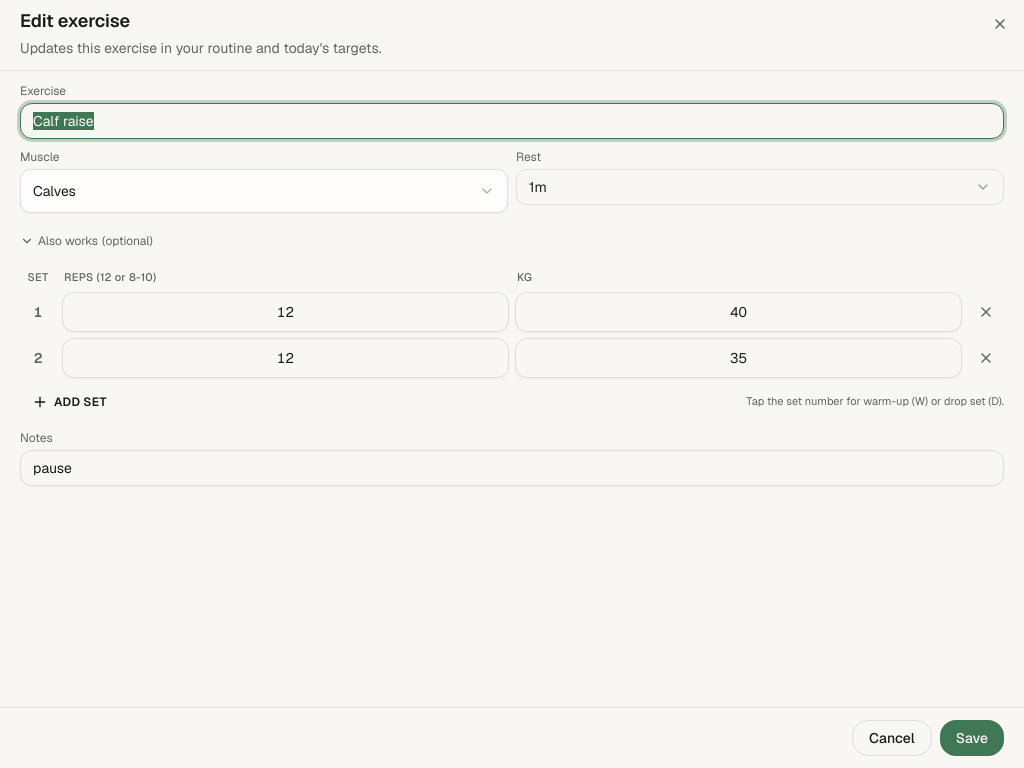
Test: EditExerciseDialog › blocks saving while a set has an unreadable kg
Replace the text in the field named "Set 1 weight in kg" with "abc" at (738, 312), box [515,292,962,332]
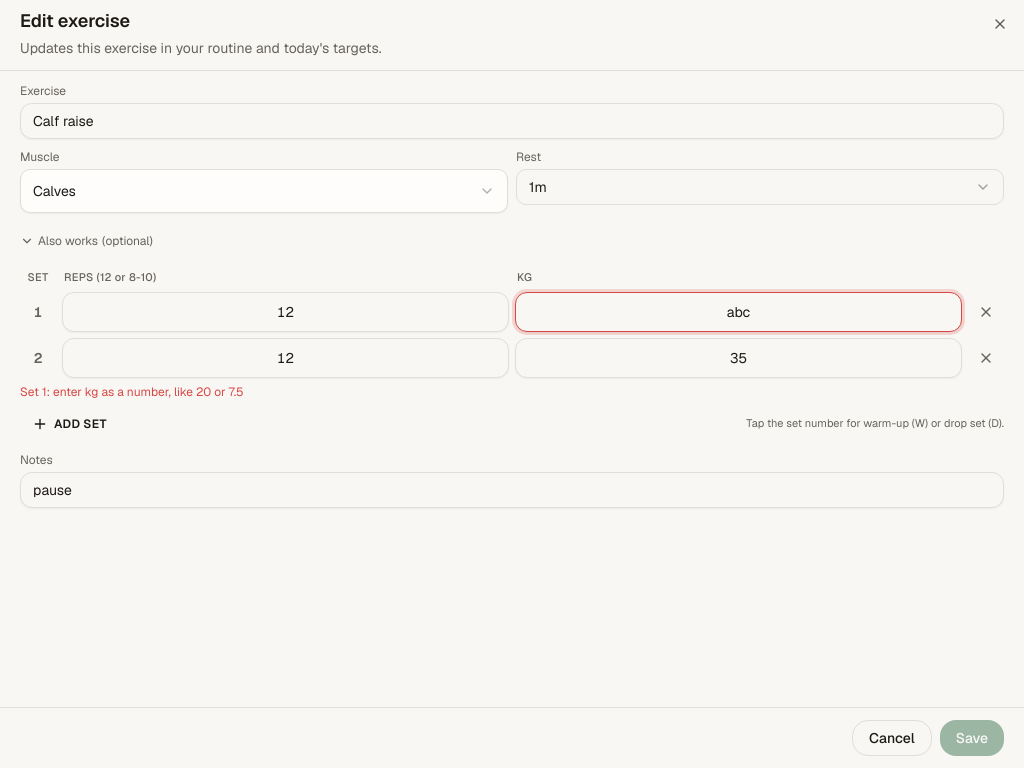
Expected: the button "Save" is disabled, [940,720,1004,756]
